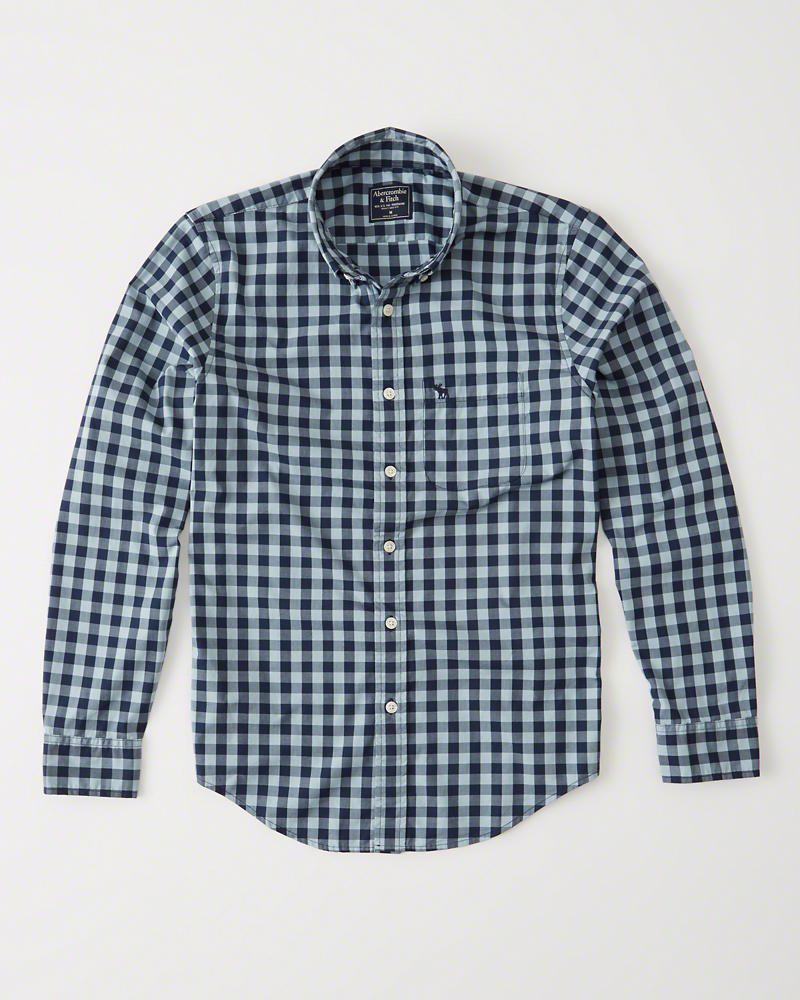teeshirt: (29, 131, 768, 854)
